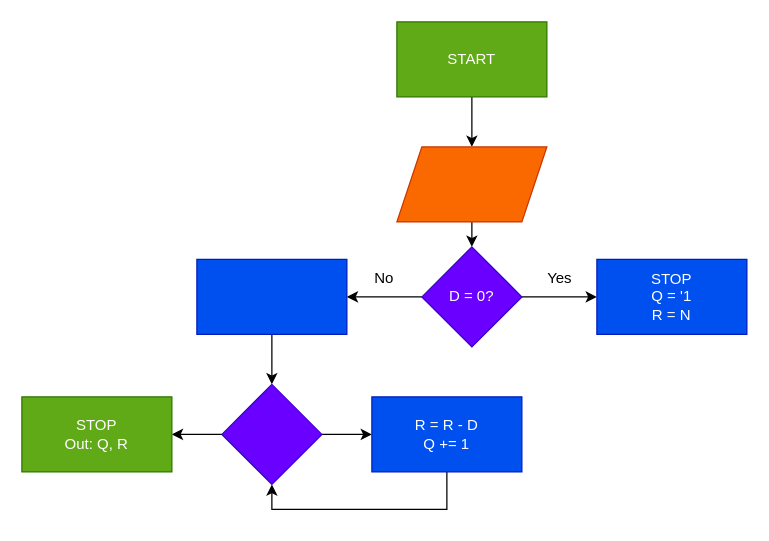
The diagram is 769 pixels wide and 541 high, and some of its shapes have lost their labels. The box of each missing label's shape, as (x1, y1, x2, y2) in pixels:
N = 17 D = 5: (396, 146, 547, 222)
Q = 0 R = 17: (196, 258, 347, 334)
R = D?: (221, 383, 322, 484)
